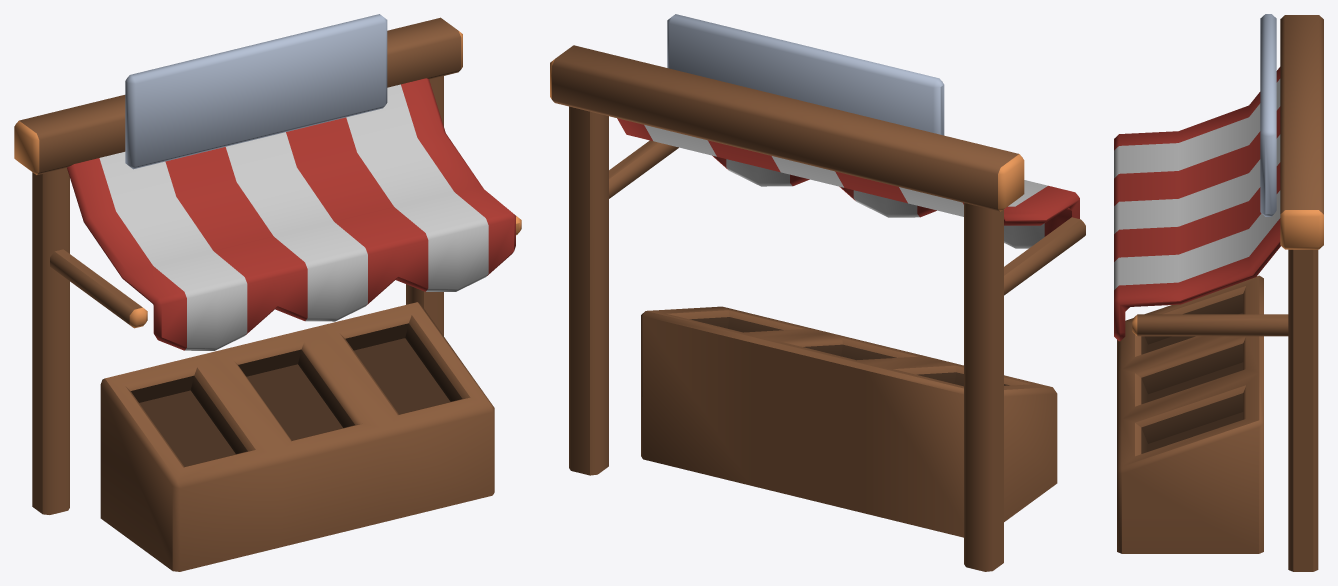
File: Market-mini.fbx
The picture shows the model from 3 angles, left to right: view 1: azimuth 30°, elevation 25°; view 2: azimuth 150°, elevation 25°; view 3: azimuth 270°, elevation 25°; orthographic projection. The views are drawn at different scales.
Visible parts, largest first — view 1: Cube.1382, Plane.084, Cube.1384, Cube.1380, Cube.1383, Cube.1381; view 2: Cube.1382, Cube.1383, Cube.1380, Cube.1384, Plane.084, Cube.1381; view 3: Cube.1382, Plane.084, Cube.1383, Cube.1380, Cube.1381, Cube.1384.
Part boxes in pixels (box(x1,y1,x2,y2)): Cube.1382: box(100, 302, 494, 571); Plane.084: box(67, 78, 515, 350); Cube.1384: box(125, 14, 387, 169); Cube.1380: box(32, 76, 443, 514); Cube.1383: box(14, 17, 462, 174); Cube.1381: box(50, 216, 521, 328); Cube.1382: box(641, 306, 1057, 537); Cube.1383: box(550, 45, 1024, 211); Cube.1380: box(569, 106, 1003, 571); Cube.1384: box(667, 14, 944, 135); Plane.084: box(617, 118, 1079, 248); Cube.1381: box(609, 140, 1085, 295); Cube.1382: box(1117, 275, 1263, 553); Plane.084: box(1114, 67, 1280, 341); Cube.1383: box(1280, 15, 1323, 249); Cube.1380: box(1288, 249, 1318, 571); Cube.1381: box(1132, 314, 1288, 336); Cube.1384: box(1260, 14, 1276, 216).
Size of the model in its own units: 74.25 by 70.76 by 33.
